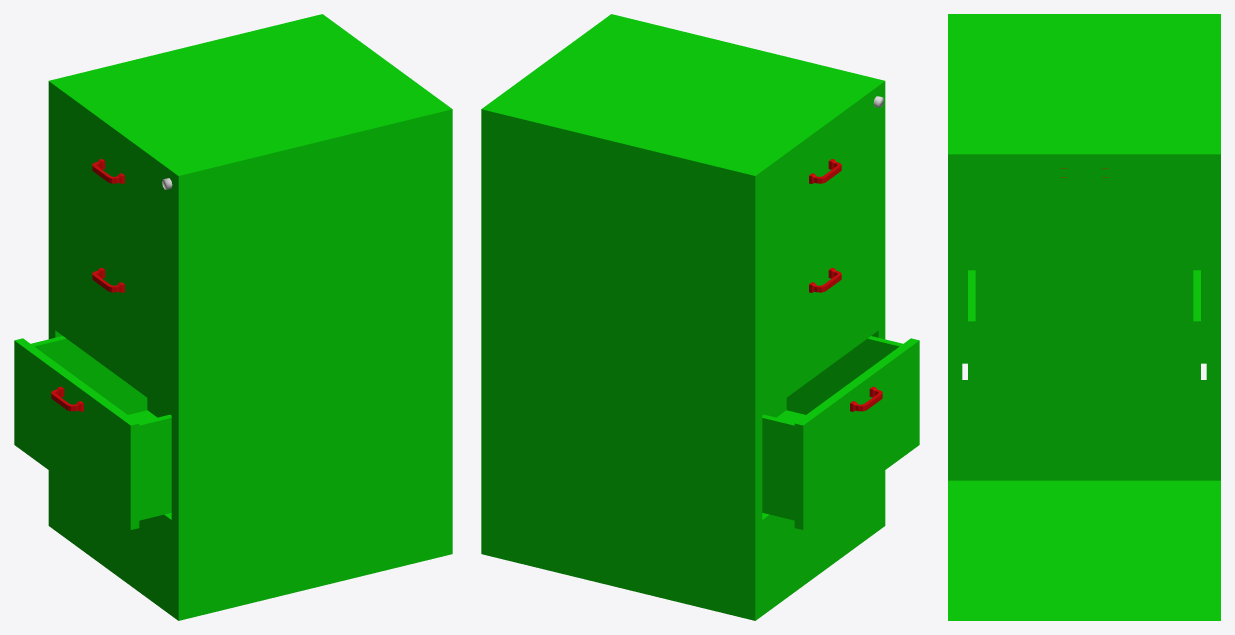
File: File Cabinet Open.fbx
3 views of the same model, side by side, from view 1: azimuth 30°, elevation 25°; view 2: azimuth 150°, elevation 25°; view 3: azimuth 270°, elevation 25° (orthographic). The views are drawn at different scales.
Visible parts, largest first — view 1: Cube.016; view 2: Cube.016; view 3: Cube.016.
Part boxes in pixels (bbox=[...]): Cube.016: bbox=[14, 14, 452, 620]; Cube.016: bbox=[481, 14, 919, 620]; Cube.016: bbox=[948, 14, 1220, 620].
Bounding box in the file's own units: 113 × 146 × 77.6.
